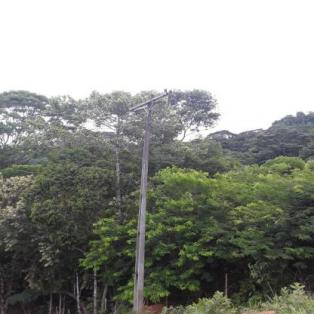Poste: (131, 98, 155, 313)
